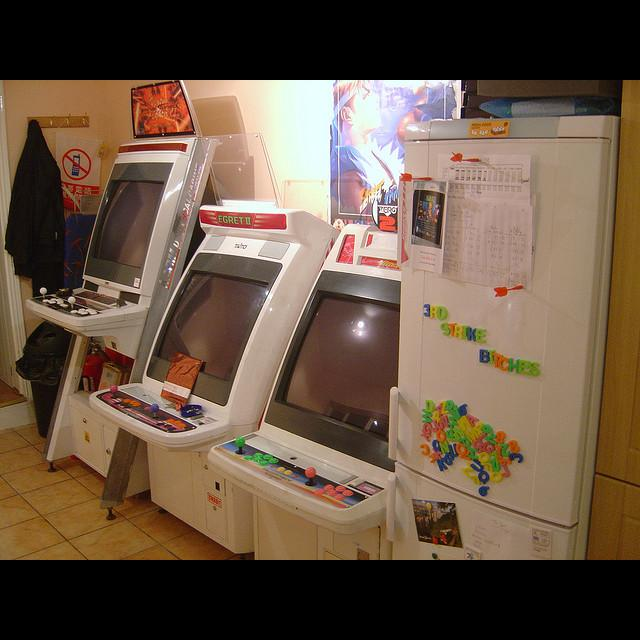Flat-Panel-Monitor: (269, 267, 394, 466), (148, 253, 282, 404), (84, 175, 163, 292)
Refrigerator: (386, 117, 618, 560)
